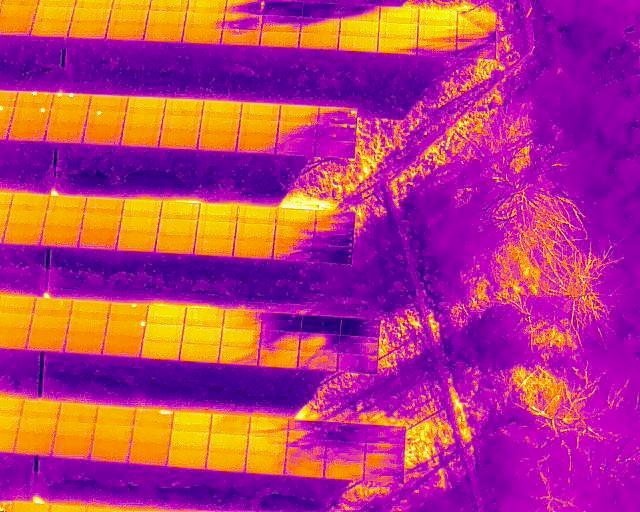Cell: (86, 109, 126, 128), (106, 320, 147, 338), (10, 108, 50, 124), (108, 304, 147, 320), (225, 0, 264, 15)
Cell-Multi: (12, 91, 53, 108), (318, 107, 356, 125), (50, 93, 90, 110), (317, 124, 355, 139)
No-Anomaly: (16, 432, 53, 455), (169, 449, 207, 470), (54, 436, 92, 457), (181, 326, 225, 344), (180, 344, 221, 363), (92, 442, 129, 463), (7, 123, 47, 142), (59, 402, 97, 422), (101, 338, 143, 356), (64, 337, 106, 355), (132, 427, 171, 446), (247, 436, 286, 455), (286, 459, 325, 478), (247, 456, 286, 475), (129, 446, 168, 465), (207, 453, 246, 472), (259, 349, 298, 368), (193, 237, 234, 255), (140, 341, 181, 359), (220, 328, 261, 346), (211, 415, 249, 434), (45, 125, 85, 143), (116, 231, 156, 249), (70, 300, 110, 318), (26, 334, 66, 352), (236, 138, 278, 155), (97, 406, 134, 425), (83, 128, 122, 146), (199, 118, 238, 136), (41, 228, 80, 246), (147, 305, 186, 323), (78, 229, 117, 247), (198, 204, 239, 221), (67, 319, 108, 336), (325, 460, 363, 478), (419, 8, 457, 26), (174, 413, 210, 432), (122, 198, 160, 216), (33, 298, 71, 316), (223, 309, 261, 327), (159, 132, 199, 149), (238, 120, 278, 137), (6, 213, 46, 230), (171, 430, 208, 448), (10, 194, 47, 212), (23, 401, 58, 420), (197, 135, 236, 152), (235, 241, 274, 258), (29, 317, 68, 334), (236, 208, 277, 224), (81, 213, 122, 229), (1, 230, 42, 246), (20, 418, 56, 436), (209, 435, 247, 452), (164, 100, 202, 117), (202, 101, 240, 118), (380, 7, 418, 24), (107, 24, 145, 41), (146, 323, 184, 340), (241, 104, 281, 120), (123, 115, 163, 131), (48, 109, 88, 125), (43, 211, 83, 227), (236, 224, 276, 240), (196, 221, 236, 237), (222, 30, 262, 46), (33, 20, 70, 37), (147, 24, 184, 41), (280, 106, 319, 122), (84, 197, 123, 213), (156, 234, 195, 250), (340, 20, 379, 36), (185, 310, 224, 326), (183, 28, 222, 44), (127, 98, 163, 115), (186, 13, 224, 29), (56, 422, 94, 438), (121, 132, 161, 147), (157, 219, 197, 234), (95, 425, 132, 441), (302, 33, 339, 49), (70, 21, 107, 37), (89, 94, 128, 109), (161, 117, 200, 132), (379, 23, 418, 38), (277, 210, 316, 225), (261, 33, 299, 48), (161, 203, 199, 218), (339, 37, 379, 51), (46, 196, 86, 210), (119, 216, 159, 230), (73, 7, 110, 22), (34, 6, 72, 20), (109, 10, 146, 24), (0, 5, 34, 20), (147, 11, 186, 24), (0, 20, 33, 35)
Shadowing: (364, 461, 404, 482), (364, 443, 405, 462), (287, 421, 328, 440), (299, 333, 339, 352), (287, 441, 328, 459), (338, 353, 379, 371), (366, 424, 404, 443), (250, 417, 288, 436), (316, 139, 356, 157), (219, 347, 260, 364), (327, 442, 365, 460), (329, 424, 367, 442), (278, 122, 316, 140), (315, 244, 353, 262), (262, 313, 300, 331), (274, 243, 314, 260), (300, 316, 340, 333), (224, 13, 263, 30), (340, 319, 379, 336), (260, 332, 299, 349), (299, 352, 338, 369), (274, 226, 315, 242), (339, 336, 380, 352), (458, 43, 496, 60), (457, 12, 495, 29), (276, 140, 316, 156), (264, 0, 303, 16), (341, 5, 380, 21), (301, 18, 340, 34), (262, 16, 301, 32), (315, 227, 353, 243), (377, 40, 417, 55), (418, 42, 458, 57), (418, 26, 458, 41), (458, 28, 496, 43), (303, 3, 340, 18), (316, 211, 353, 226)
Unclassified: (134, 408, 172, 427)
